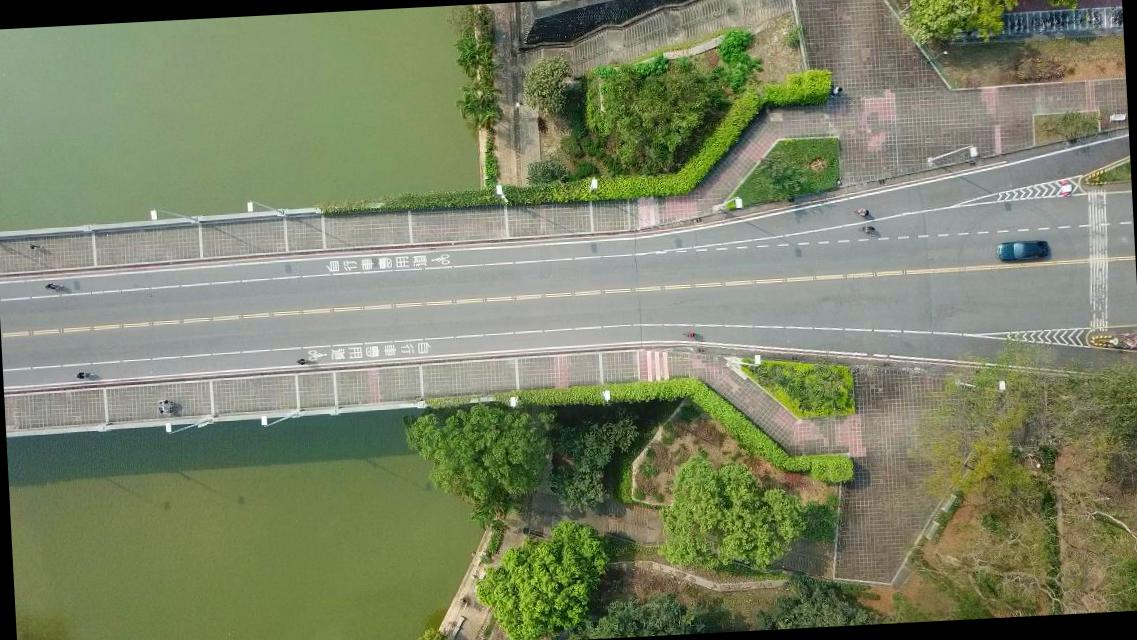vehicle: (996, 240, 1048, 264)
